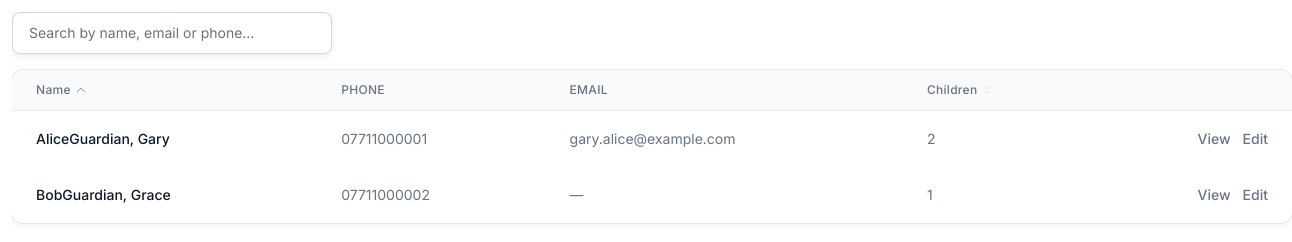
Test case: GuardiansTable › does not treat a non-digit search as matching every phone number
The width and height of the screenshot is (1292, 242).
Type "nobody" into the search field with placeholder "Search by name, email or phone…" at x=172, y=33, box top-left (12, 12), bottom-right (332, 54)
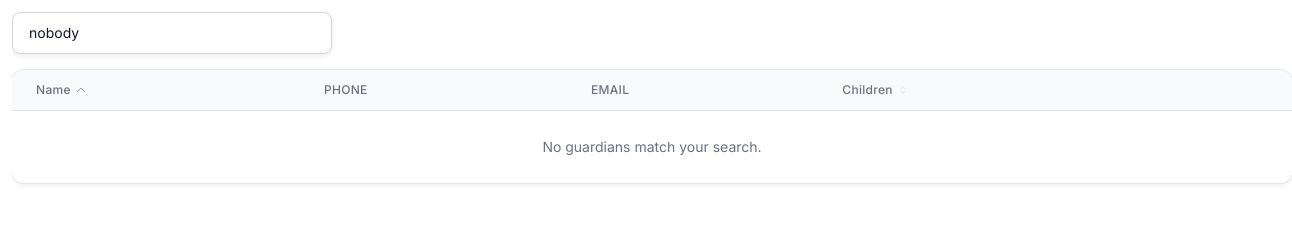
Now the text "AliceGuardian, Gary" is gone
Now the text "BobGuardian, Grace" is gone
